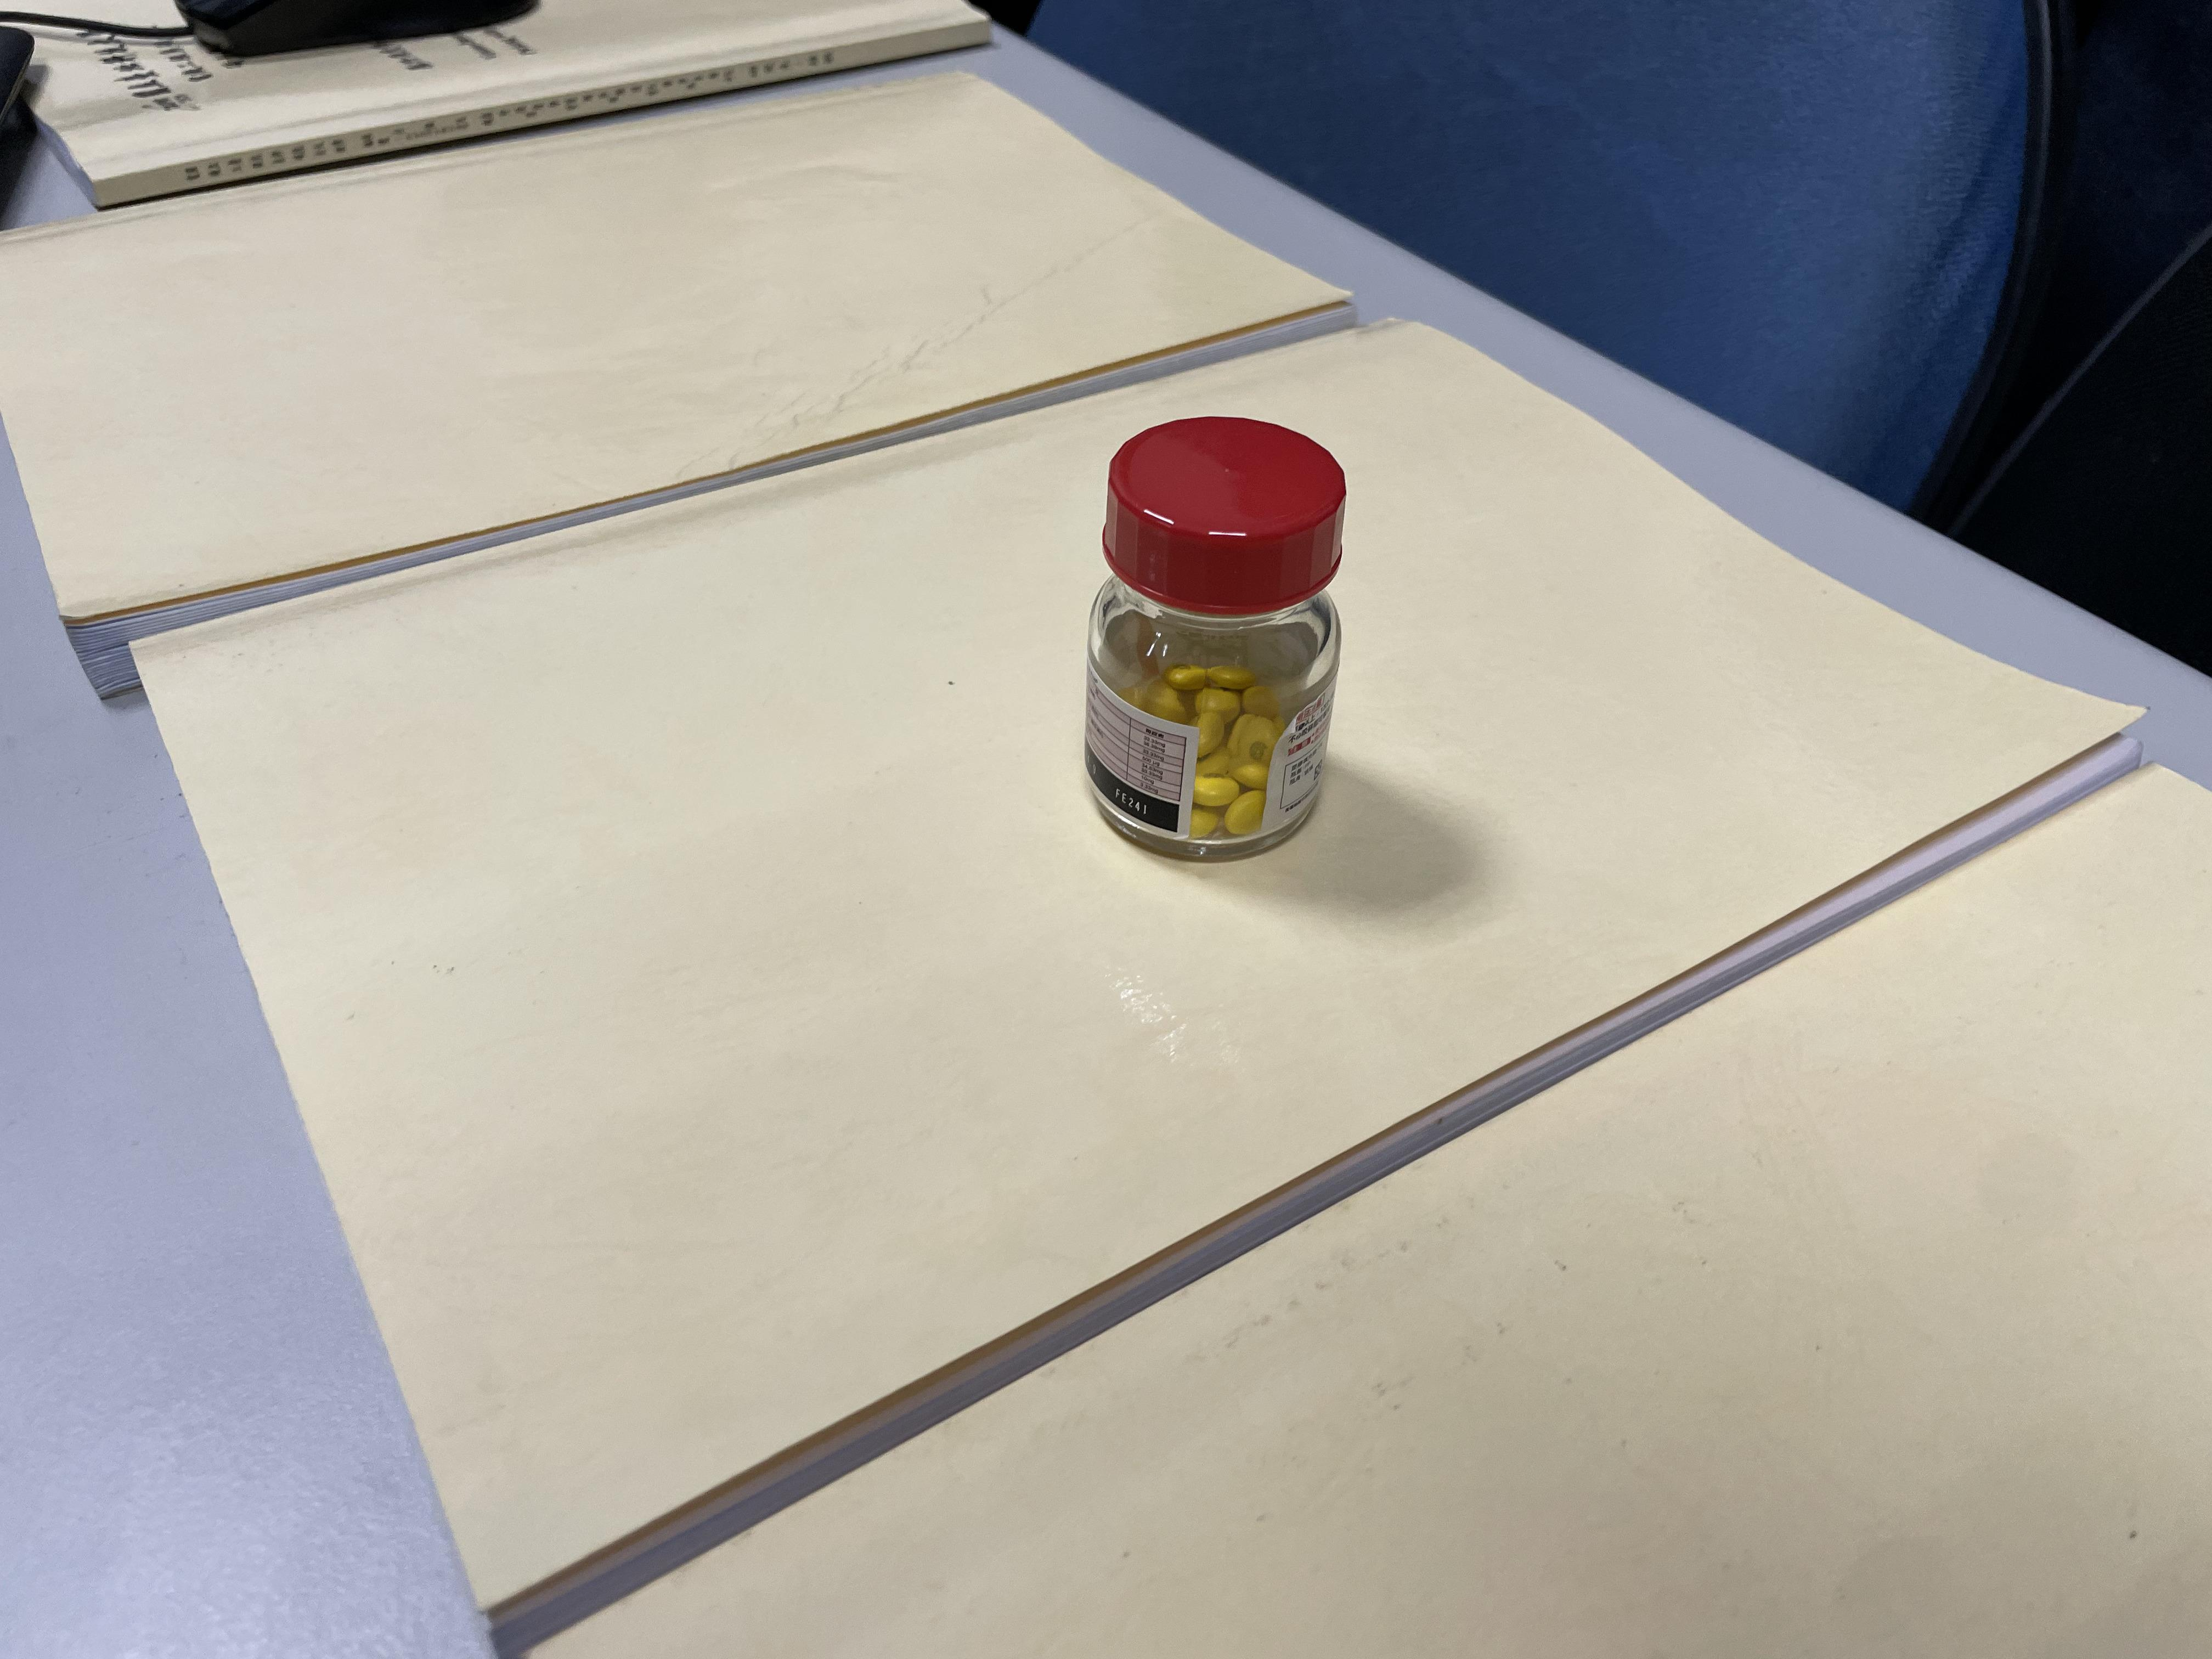jar: (1075, 417, 1369, 902)
